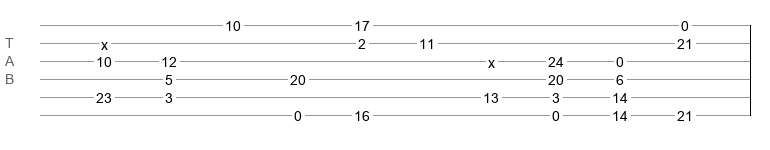0: (294, 108, 302, 118), (552, 108, 560, 118), (616, 54, 624, 64), (681, 18, 689, 28)
10: (96, 54, 112, 64), (225, 18, 241, 28)
11: (419, 36, 435, 46)
12: (161, 54, 177, 64)
13: (483, 90, 499, 100)
14: (612, 108, 628, 118), (612, 90, 628, 100)
16: (354, 108, 370, 118)
17: (354, 18, 370, 28)
2: (358, 36, 366, 46)
20: (290, 72, 306, 82), (548, 72, 564, 82)
21: (677, 36, 693, 46), (677, 108, 693, 118)
23: (96, 90, 112, 100)
24: (548, 54, 564, 64)
3: (165, 90, 173, 100), (552, 90, 560, 100)
5: (165, 72, 173, 82)
6: (616, 72, 624, 82)
x: (101, 37, 108, 45), (488, 55, 495, 63)
